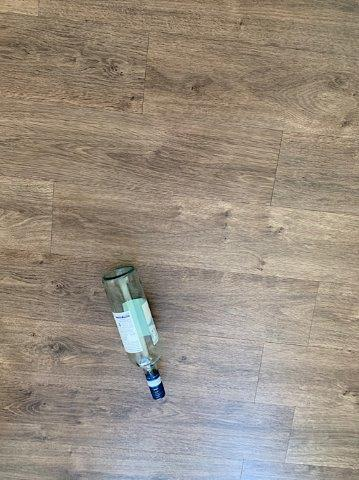botolkaca: (104, 266, 165, 400)
